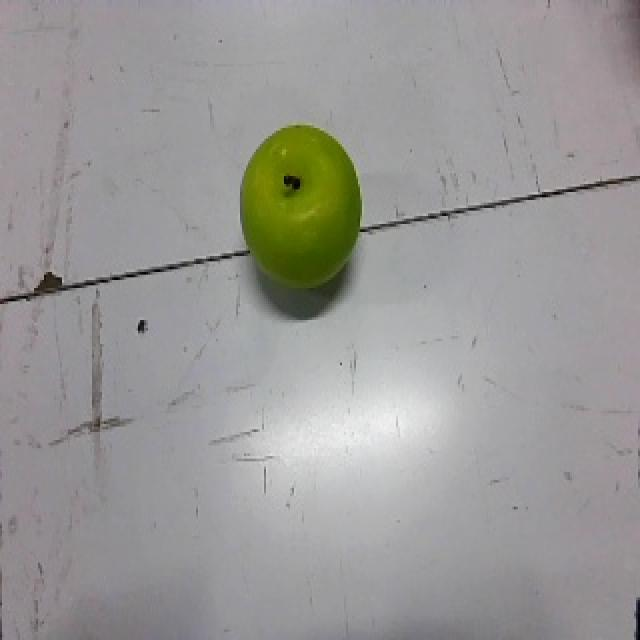apple: (235, 122, 372, 290)
